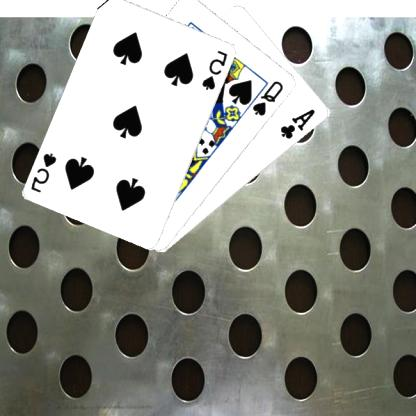5S: (201, 47, 231, 92), (30, 150, 60, 194)
AC: (280, 106, 318, 140)
QS: (252, 78, 286, 117)
